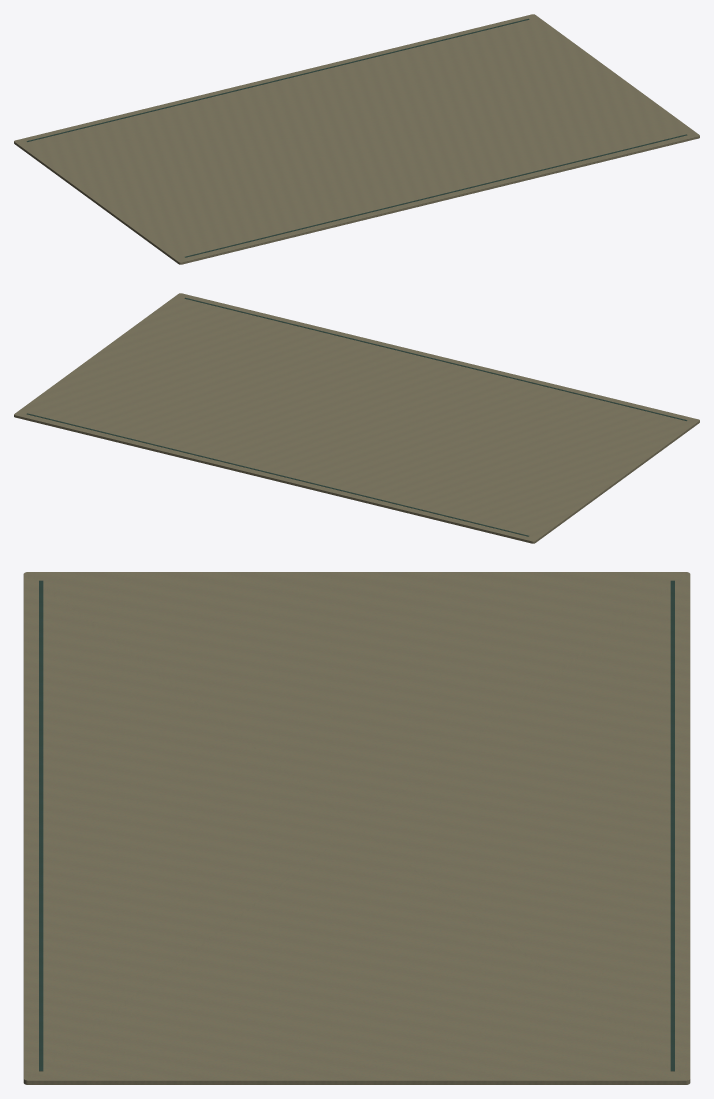
The model's file is furn_de_rug_big_07.dae.
The picture shows the model from 3 angles, top to bottom: view 1: azimuth 30°, elevation 25°; view 2: azimuth 150°, elevation 25°; view 3: azimuth 270°, elevation 25°; orthographic projection. The views are drawn at different scales.
Visible parts, largest first — view 1: linen, sage; view 2: linen, sage; view 3: linen, sage.
Boxes of the visible parts, x1,y1,x2,y2 form: linen: [14, 14, 699, 264]; sage: [26, 18, 687, 257]; linen: [14, 293, 699, 543]; sage: [26, 297, 687, 536]; linen: [23, 572, 690, 1084]; sage: [39, 580, 674, 1071].
Bounding box in the file's own units: 278 × 154 × 1.26.
